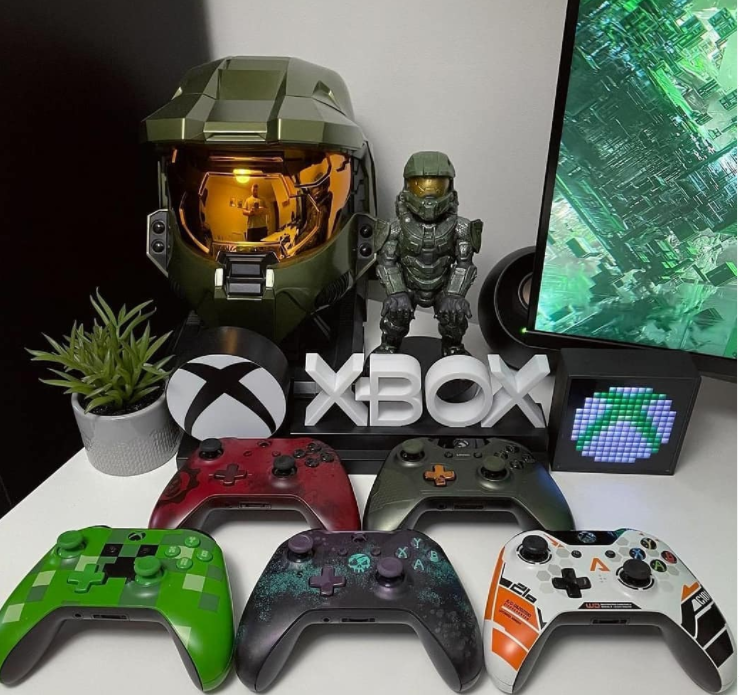gamingconsole: (492, 530, 735, 692), (2, 524, 232, 695), (240, 527, 483, 688), (372, 438, 576, 531), (159, 440, 363, 527)
